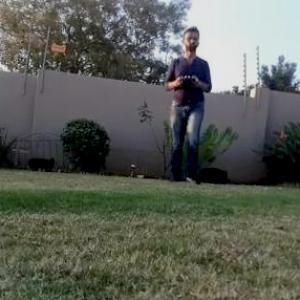follow: (160, 20, 216, 191)
